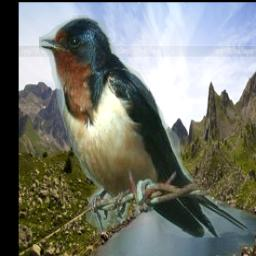Swallow: (40, 16, 249, 238)
